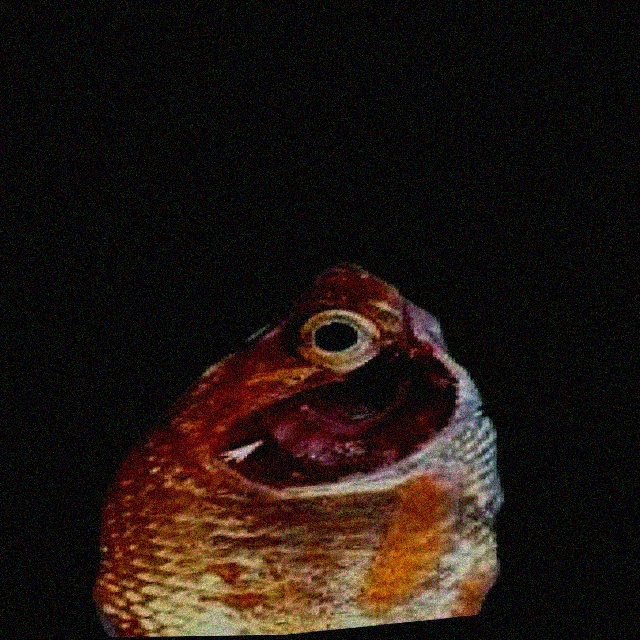Gill Disease: (98, 257, 492, 635)
